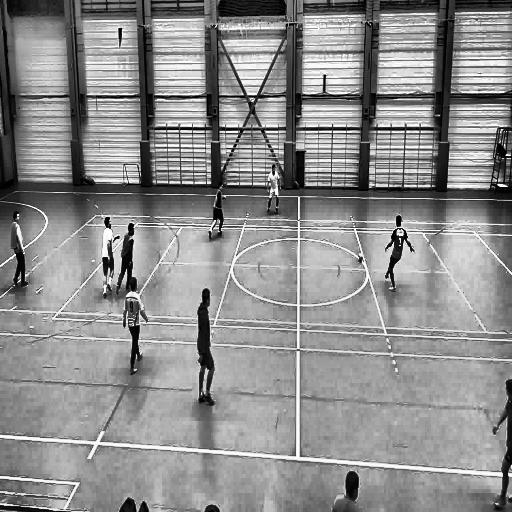ball: (356, 252, 366, 264)
player: (122, 277, 148, 377), (384, 212, 416, 293), (196, 289, 216, 408), (10, 209, 30, 291), (102, 214, 120, 299), (116, 221, 136, 296), (208, 180, 228, 242), (267, 162, 282, 215)
